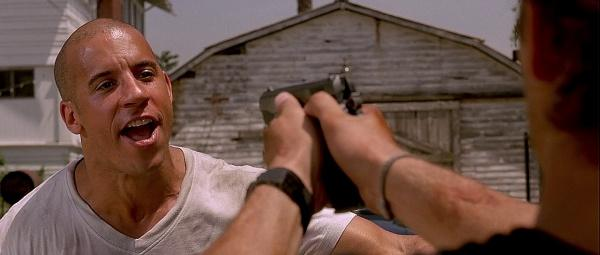Gun: (260, 64, 365, 211)
